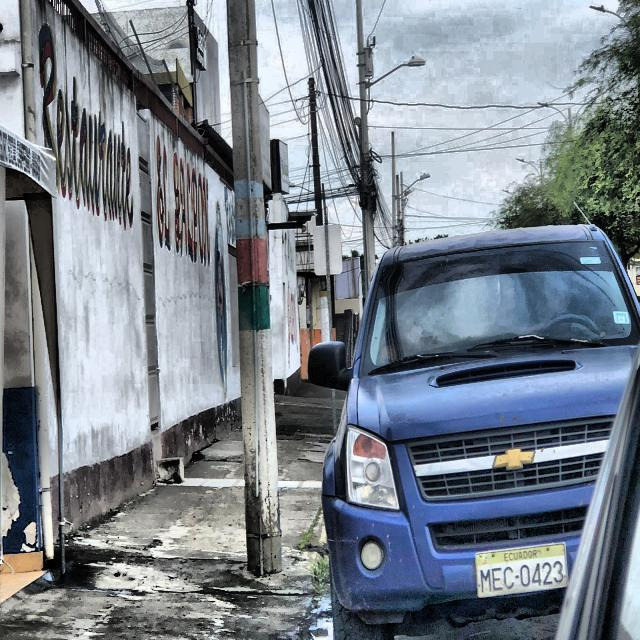license_plate: (471, 538, 571, 604)
